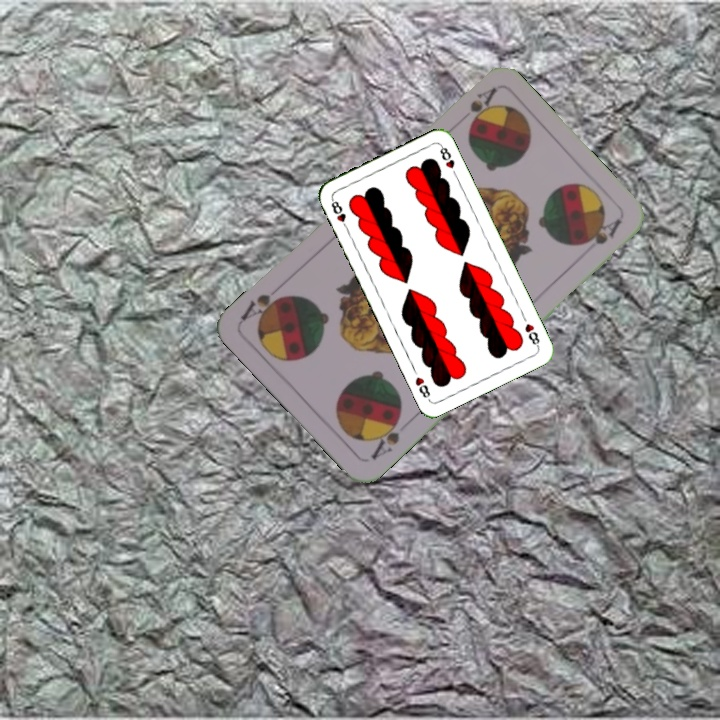H8: (327, 195, 351, 233), (521, 319, 542, 350)
SA: (367, 410, 404, 463), (465, 84, 500, 127)
